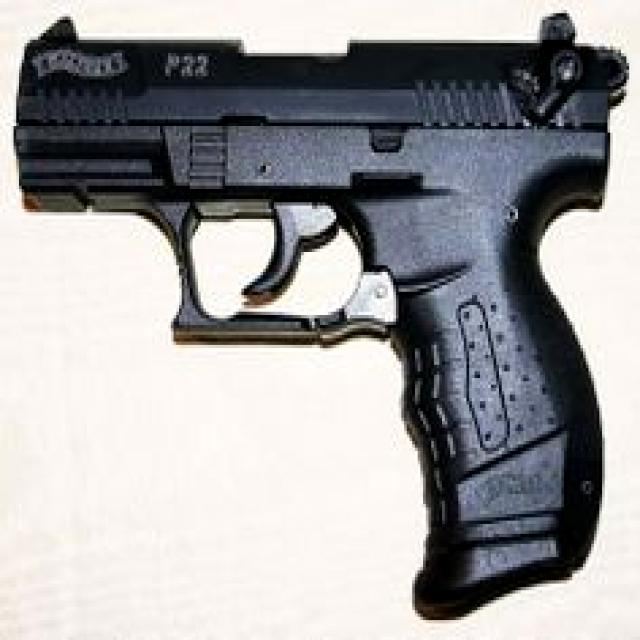semi automatic: (5, 10, 640, 626), (13, 5, 632, 630)
